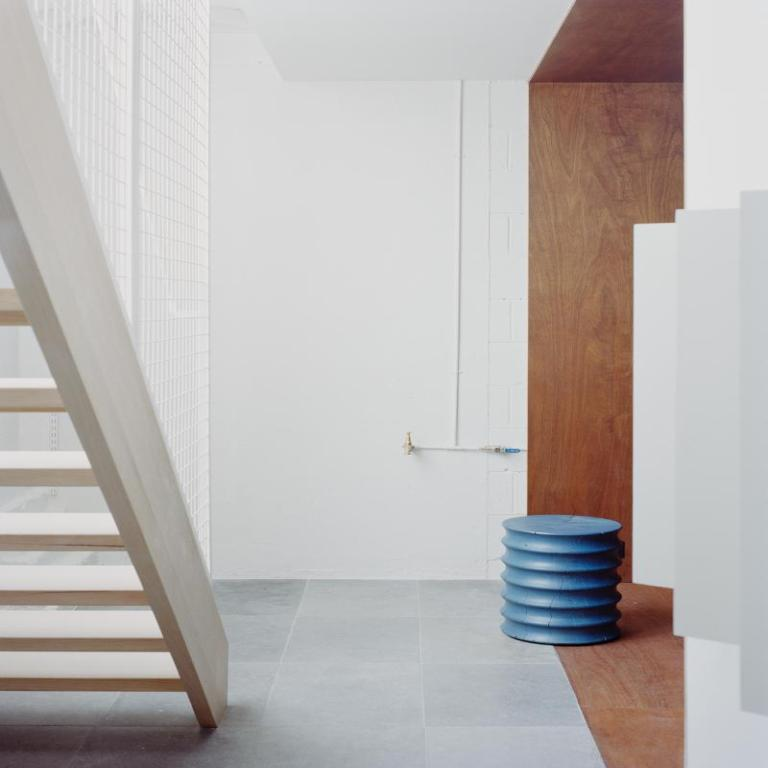white-walls: (229, 100, 474, 556)
